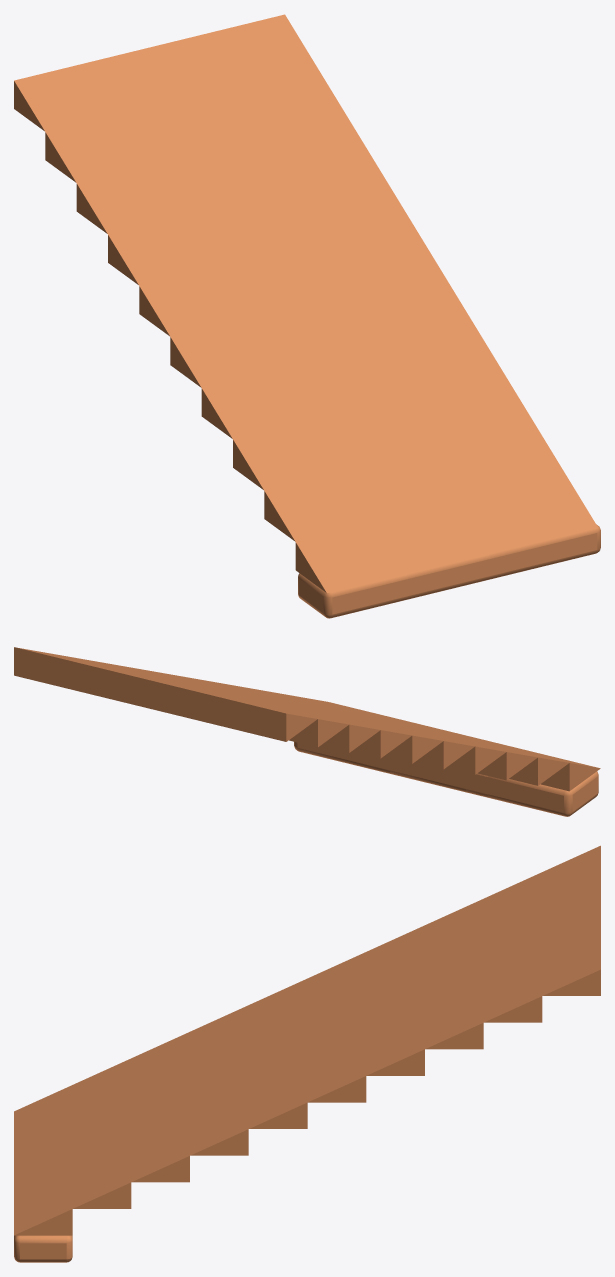
Rendered from stairsUpAgain.fbx.
3 views of the same model, one above another, from view 1: azimuth 30°, elevation 25°; view 2: azimuth 150°, elevation 25°; view 3: azimuth 270°, elevation 25° (orthographic). The views are drawn at different scales.
Parts seen in each view (by area): view 1: mergedBlocks; view 2: mergedBlocks; view 3: mergedBlocks.
Part boxes in pixels (<box>): mergedBlocks: <box>14,14,600,618</box>; mergedBlocks: <box>14,647,600,816</box>; mergedBlocks: <box>14,845,600,1262</box>.
Size of the model in its own units: 51 by 55 by 100.
